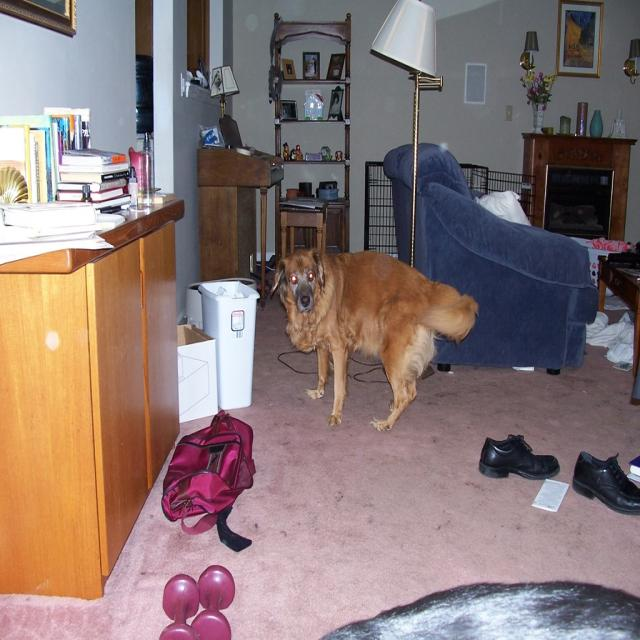Dog: (270, 248, 478, 434)
